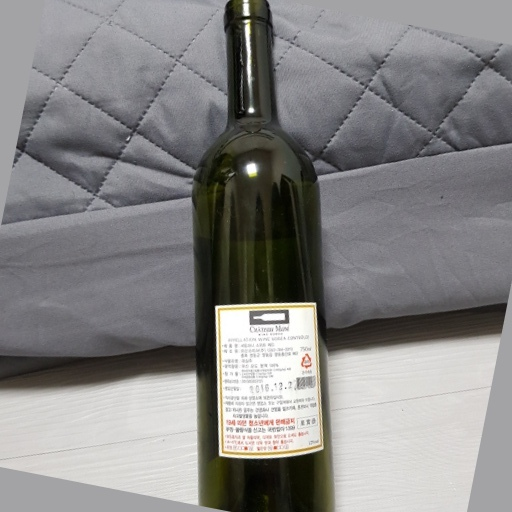Glass_2: (187, 1, 331, 512)
